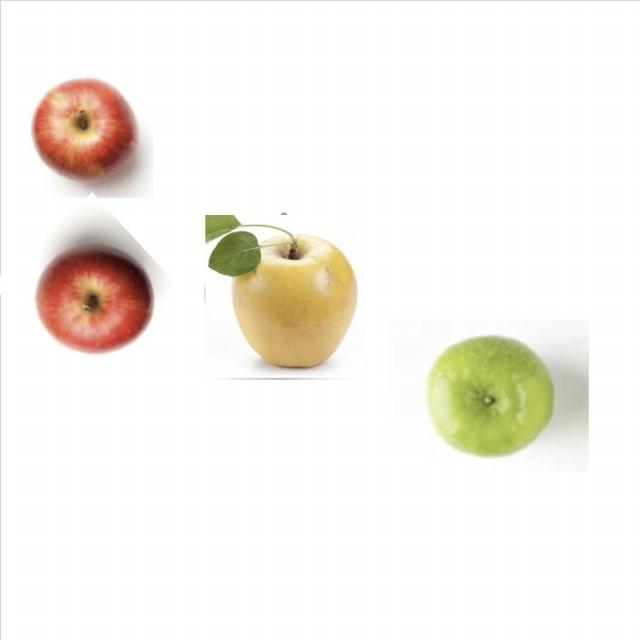Fresh Apple: (197, 207, 360, 378), (418, 332, 555, 462), (35, 242, 157, 356), (17, 82, 145, 188)
